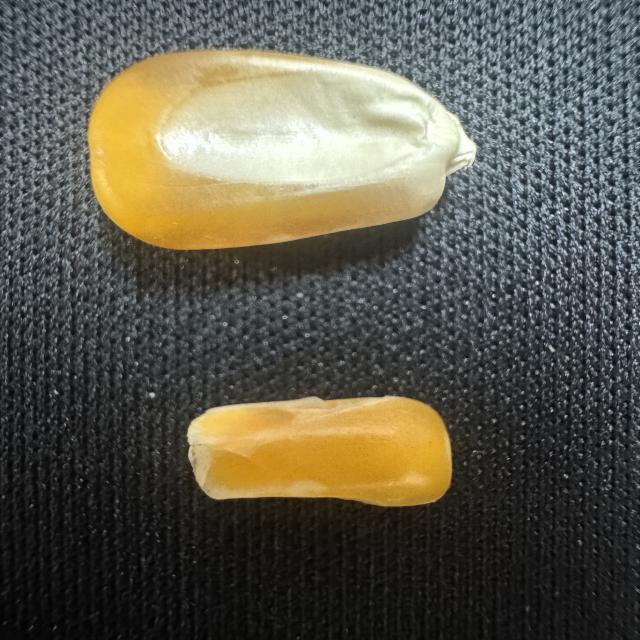Bad-Seed: (176, 389, 463, 511)
Good-Seed: (76, 38, 494, 247)
